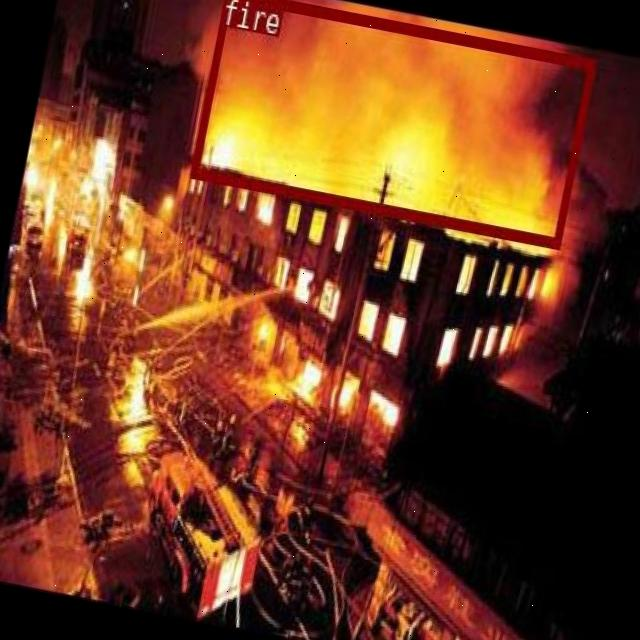fire: (190, 0, 596, 248)
